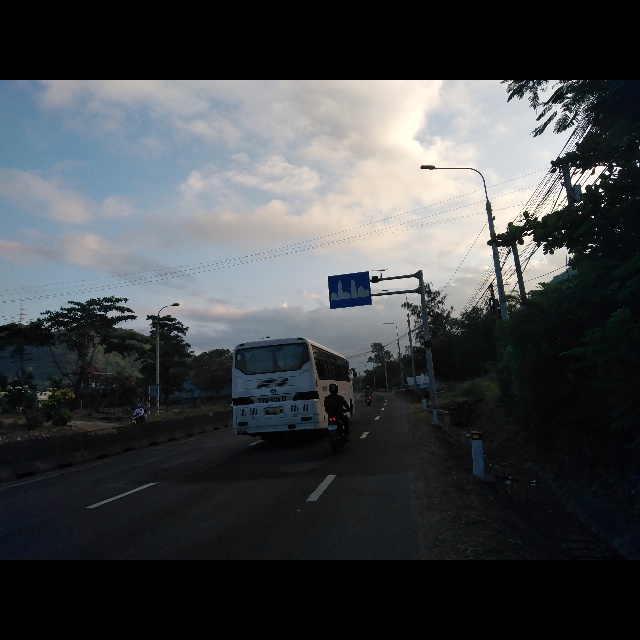Khu đông dân cư: (326, 272, 373, 308)
